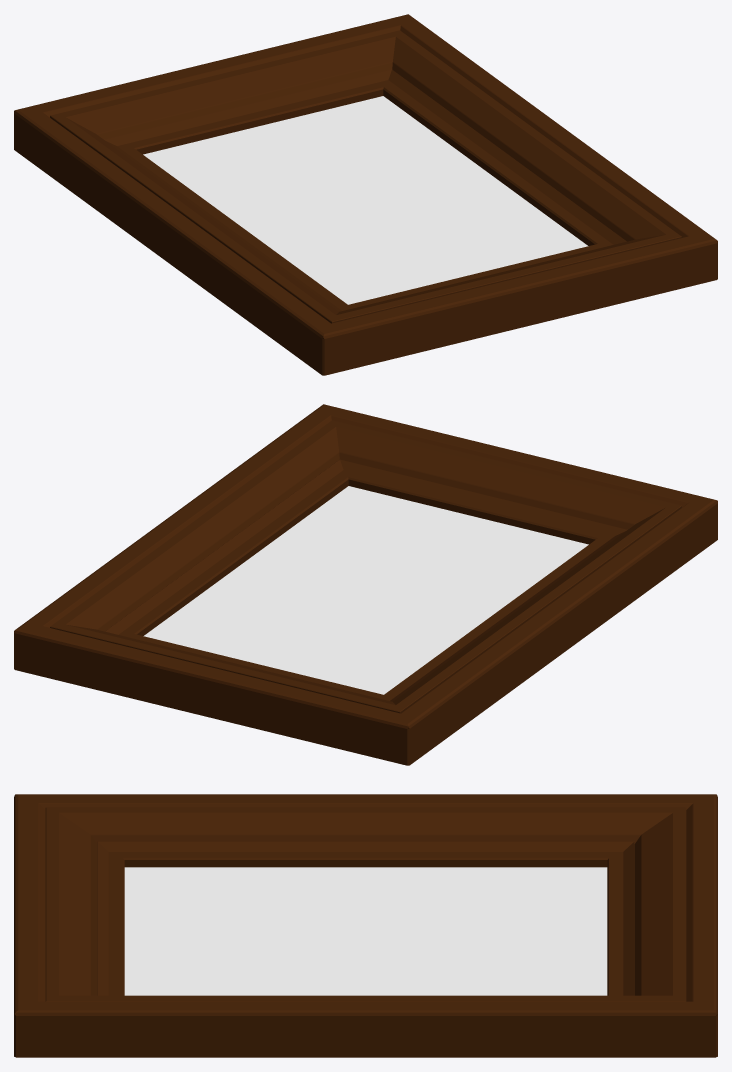
File: FRAME_WALL3.fbx
3 views of the same model, one above another, from view 1: azimuth 30°, elevation 25°; view 2: azimuth 150°, elevation 25°; view 3: azimuth 270°, elevation 25° (orthographic). The views are drawn at different scales.
Parts seen in each view (by area): view 1: Plane.002, Plane.001; view 2: Plane.002, Plane.001; view 3: Plane.002, Plane.001.
Boxes of the visible parts, left/top/right/bottom form: Plane.002: left=14, top=14, right=717, bottom=375; Plane.001: left=143, top=96, right=588, bottom=304; Plane.002: left=14, top=404, right=717, bottom=765; Plane.001: left=143, top=486, right=588, bottom=694; Plane.002: left=14, top=794, right=717, bottom=1057; Plane.001: left=124, top=867, right=607, bottom=995.
Bounding box in the file's own units: 533 × 51.52 × 723.
